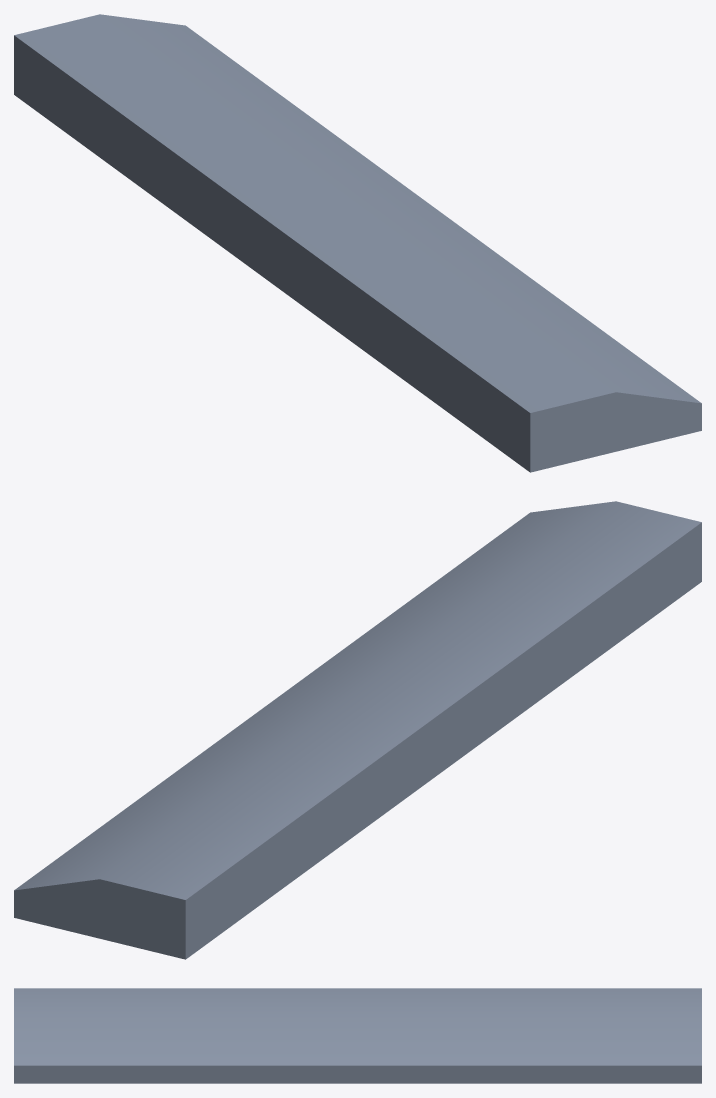
Rendered from 3_Canopy.fbx.
3 renders of one model, top to bottom at view 1: azimuth 30°, elevation 25°; view 2: azimuth 150°, elevation 25°; view 3: azimuth 270°, elevation 25°, orthographic. The views are drawn at different scales.
Visible parts, largest first — view 1: pasted__pasted___pCube28; view 2: pasted__pasted___pCube28; view 3: pasted__pasted___pCube28.
Boxes of the visible parts, box(x1,y1,x2,y2) form: pasted__pasted___pCube28: box(14, 14, 701, 472); pasted__pasted___pCube28: box(14, 501, 701, 959); pasted__pasted___pCube28: box(14, 988, 701, 1083).
Bounding box in the file's own units: 0.9873 × 0.3272 × 5.14.
